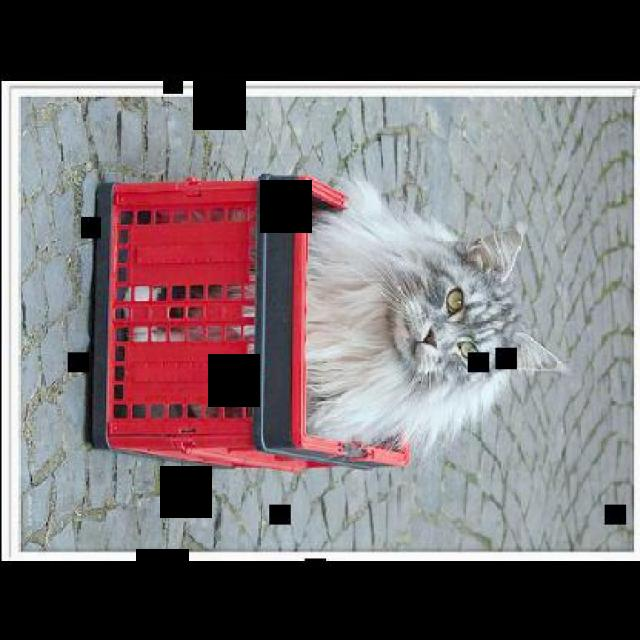unauthorized: (128, 174, 566, 461)
